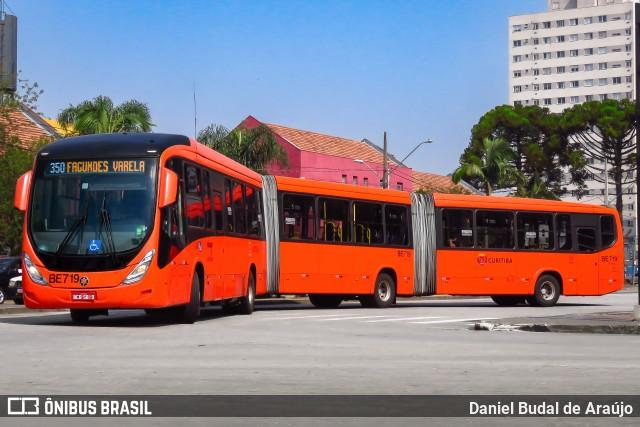FAGUNDES VARELA: (65, 158, 148, 176)
